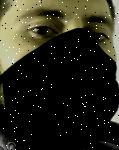with_mask: (2, 1, 119, 150)
